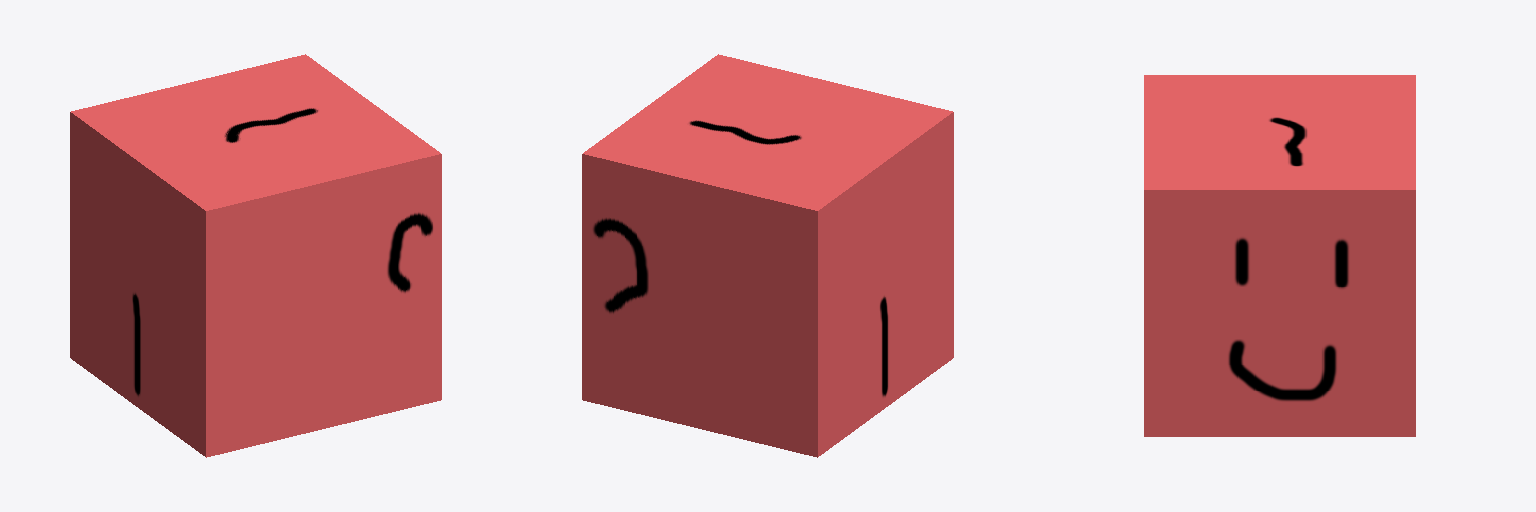
3 renders of one model, left to right at view 1: azimuth 30°, elevation 25°; view 2: azimuth 150°, elevation 25°; view 3: azimuth 270°, elevation 25°, orthographic.
Parts seen in each view (by area): view 1: Cube; view 2: Cube; view 3: Cube.
Part boxes in pixels (x1,y1,x2,y2): Cube: (70, 54, 441, 457); Cube: (582, 54, 953, 457); Cube: (1144, 75, 1415, 436).
Bounding box in the file's own units: 2 × 2 × 2.
Materials: 1 (1 with a texture image).